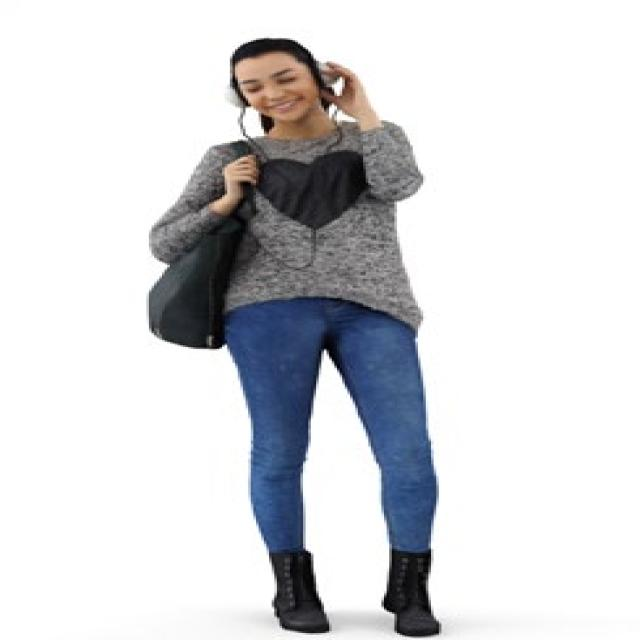standing: (144, 37, 450, 640)
